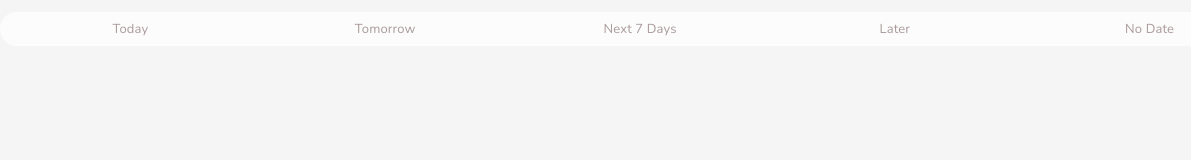
Test case: FilterPills › applies active style when clicked
Click the button "Today". click: (130, 29)
box: [4,16,257,42]
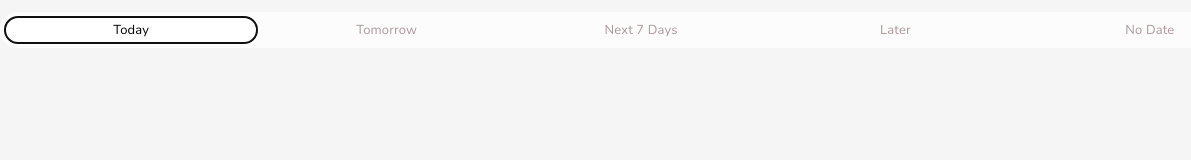
expect the button "Today" has class "bg-white": met, box [4,16,258,44]
